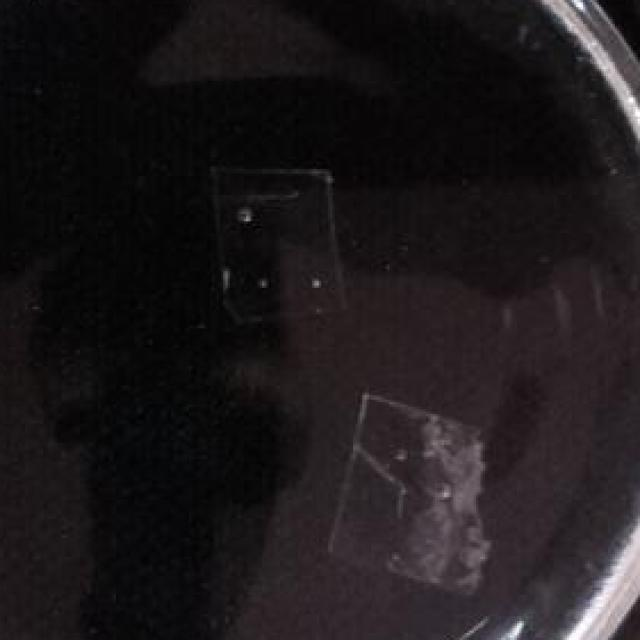Microplastic: (321, 378, 510, 621), (173, 114, 371, 340)
